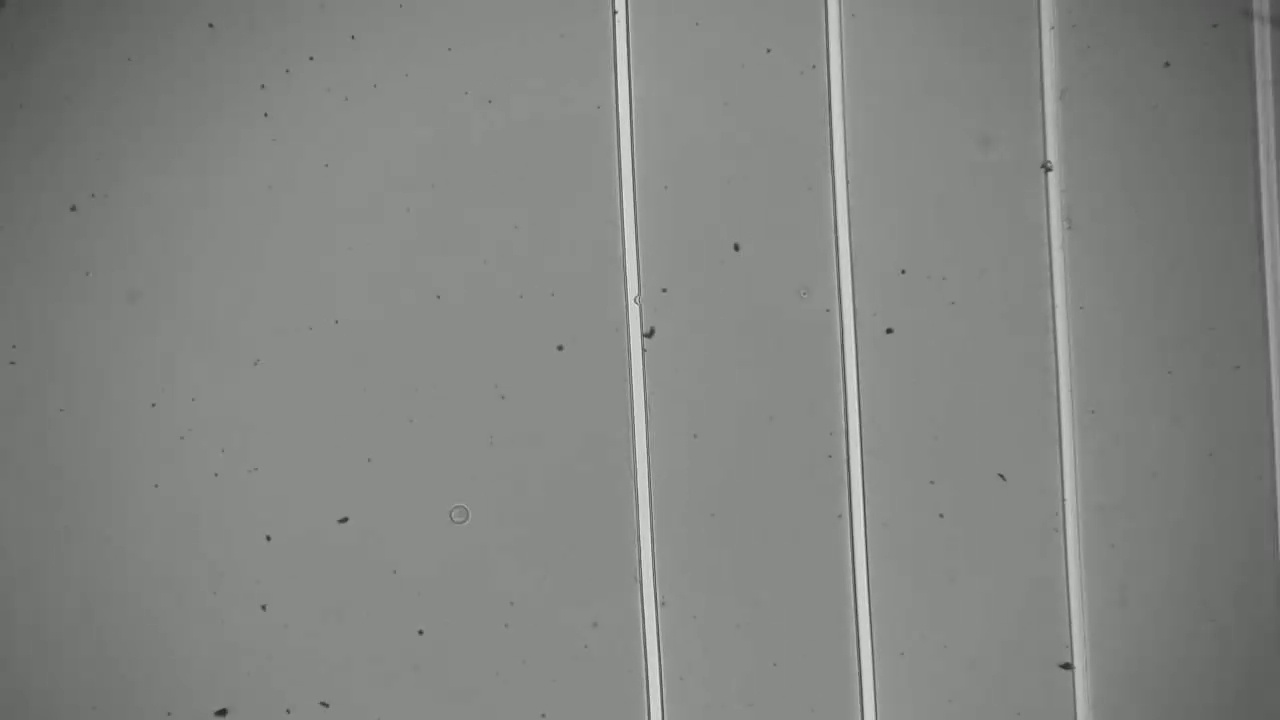edge_bite: (621, 288, 644, 309)
stains_enbedded: (1032, 150, 1070, 181)
